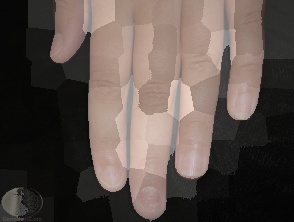Nail_psoriasis: (132, 187, 167, 217)
